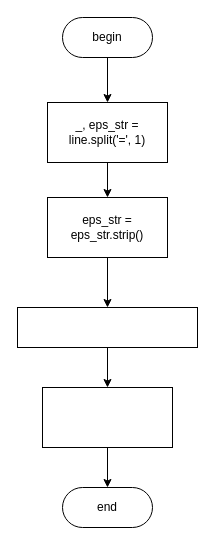
This 215x545 diagram has some shape labels left out. Each missing label, with the centre of its shape:
"eps_value = Decimal(eps_str)" goes at point 107,327.
"self.eps = eps_value return" goes at point 107,417.
